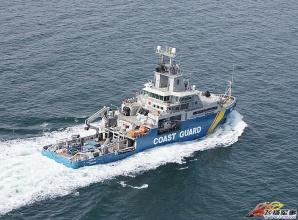otherboat: (31, 42, 247, 176)
